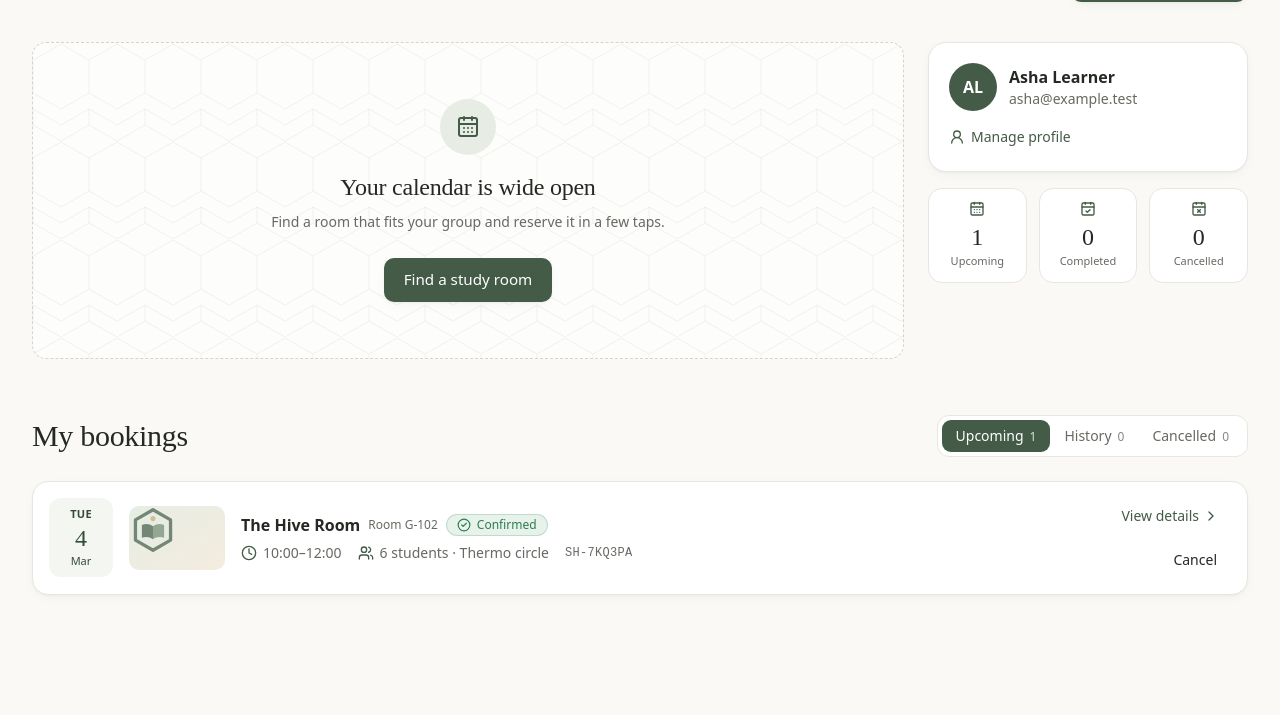
Scenario: DashboardPage › asks for confirmation before cancelling, then cancels via the API
(page scrolled)
Step 1. Click the button "Cancel" → (1195, 560), box [1159, 542, 1231, 578]
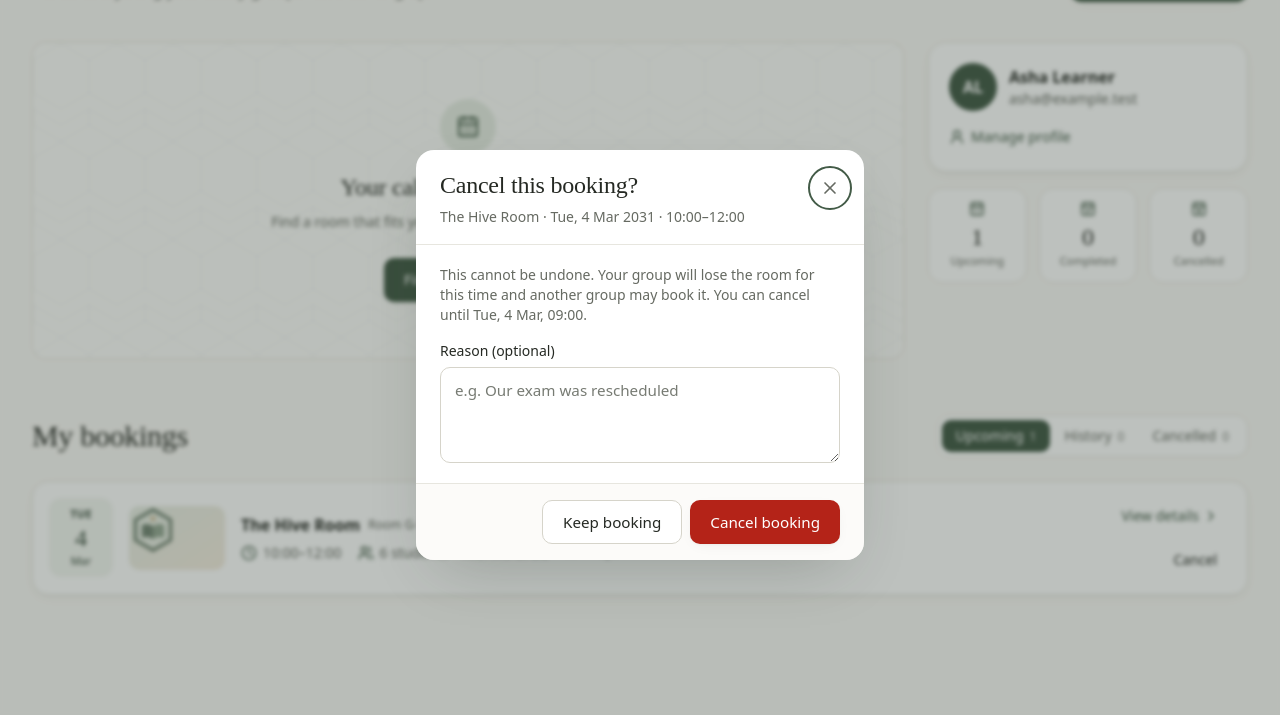
Expected: the heading "Cancel this booking?" is shown, [440, 172, 638, 198]
Step 2. Type "Exam moved" into the text box labelled "Reason (optional)" → (640, 415), box [440, 367, 840, 463]
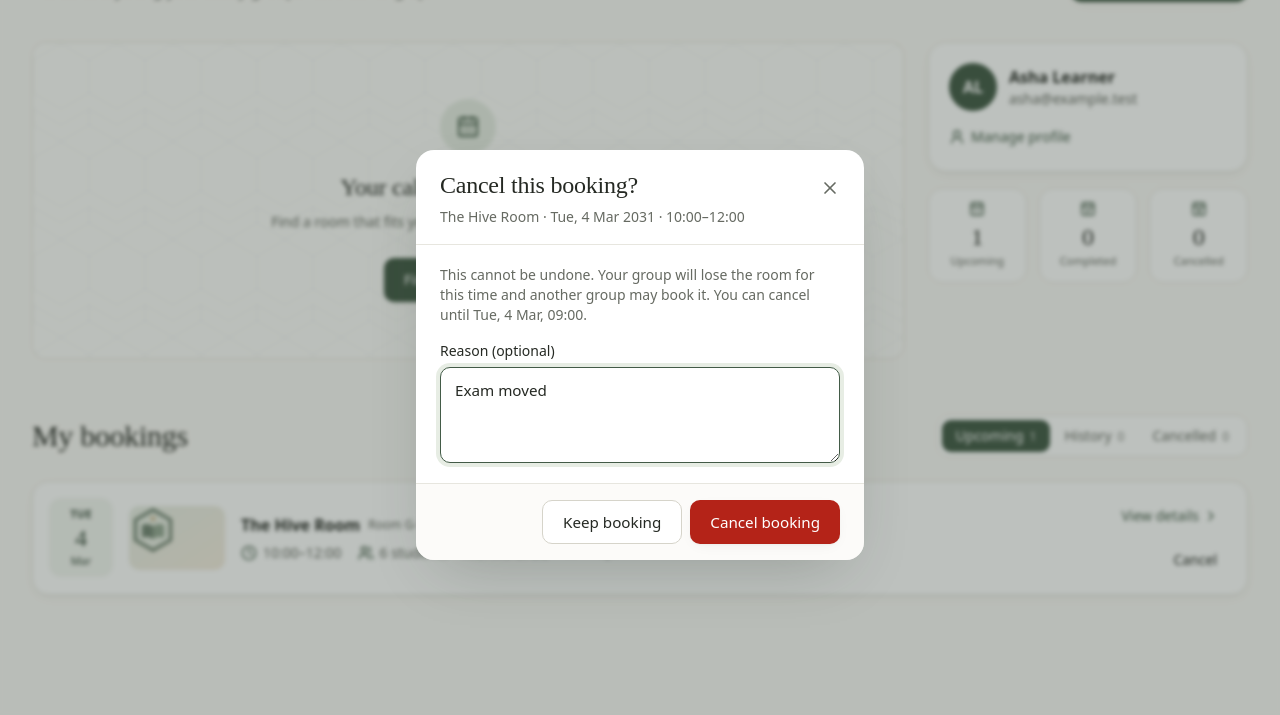
Step 3. Click the button "Cancel booking" → (765, 522), box [690, 500, 840, 544]
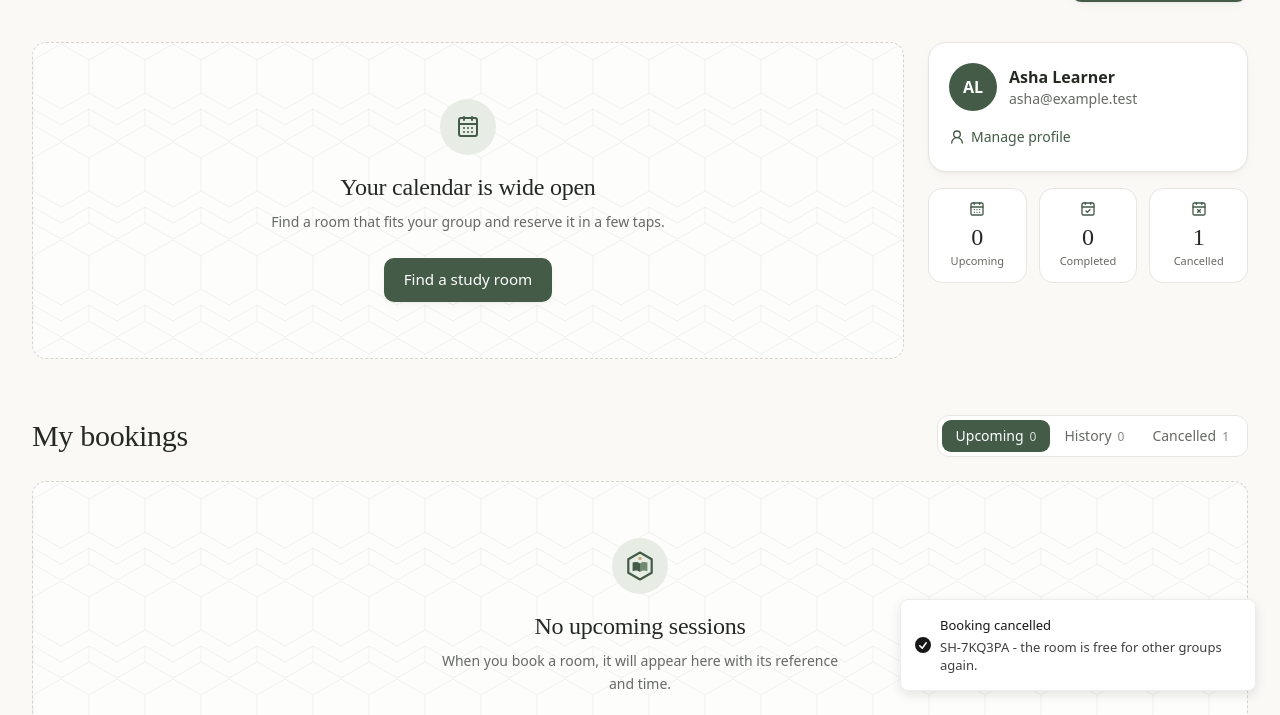
Expected: the heading "No upcoming sessions" is shown, [534, 610, 746, 642]
